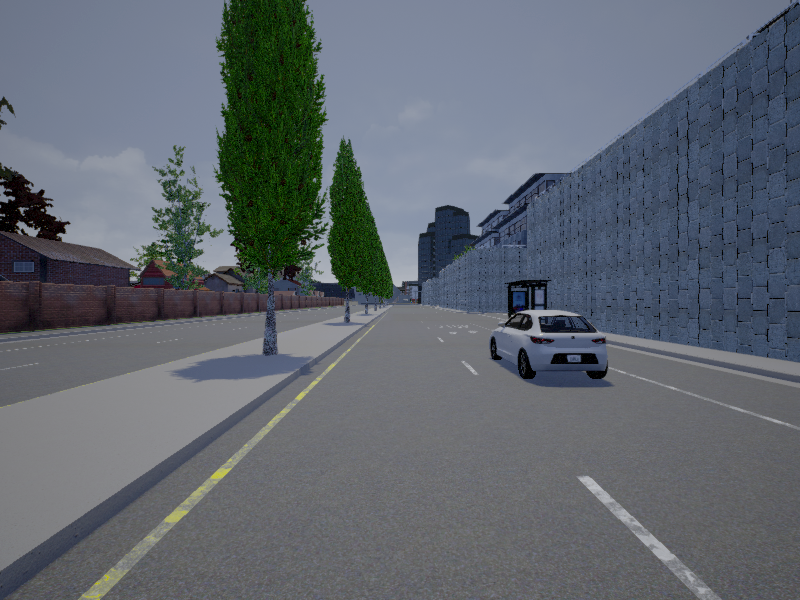Benign: (490, 309, 611, 378)
